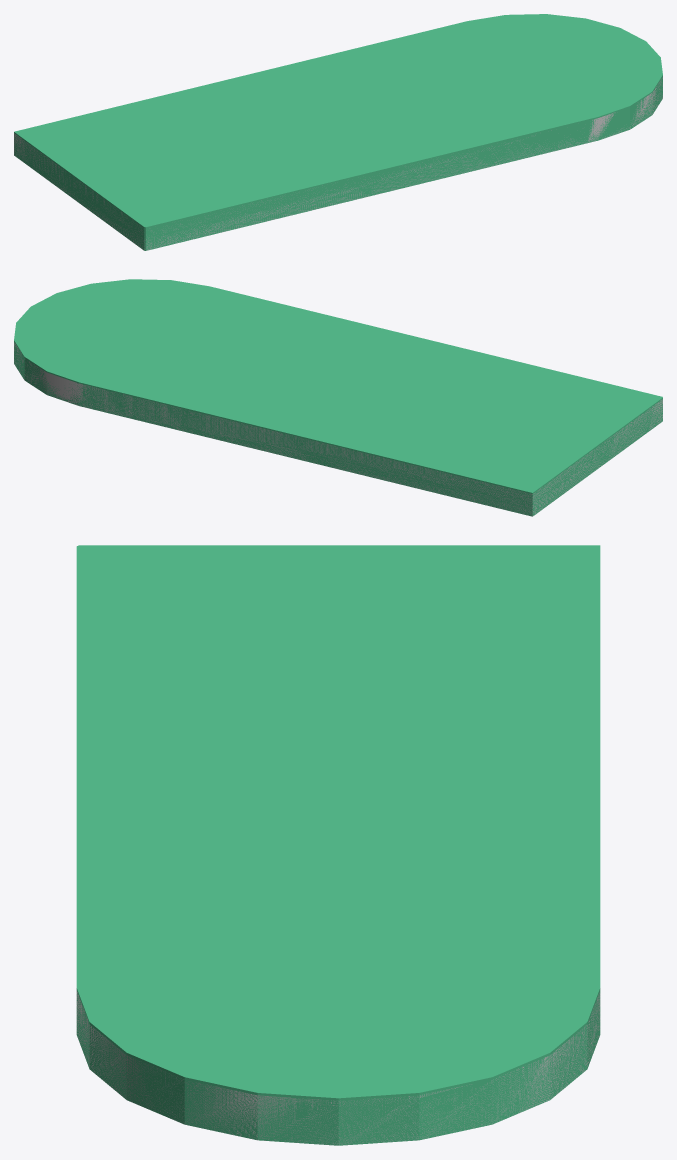
Rendered from gm_curb_rounded_01.dae.
3 renders of one model, top to bottom at view 1: azimuth 30°, elevation 25°; view 2: azimuth 150°, elevation 25°; view 3: azimuth 270°, elevation 25°, orthographic. The views are drawn at different scales.
Parts seen in each view (by area): view 1: Colmesh-1, ind_bld_c10; view 2: Colmesh-1, ind_bld_c10; view 3: Colmesh-1, ind_bld_c10.
Boxes of the visible parts, box(x1,y1,x2,y2) form: Colmesh-1: box(14, 14, 662, 250); ind_bld_c10: box(14, 78, 662, 250); Colmesh-1: box(14, 279, 662, 516); ind_bld_c10: box(14, 342, 662, 516); Colmesh-1: box(76, 545, 600, 1145); ind_bld_c10: box(76, 991, 600, 1145).
Bounding box in the file's own units: 10 × 4 × 0.4001.
